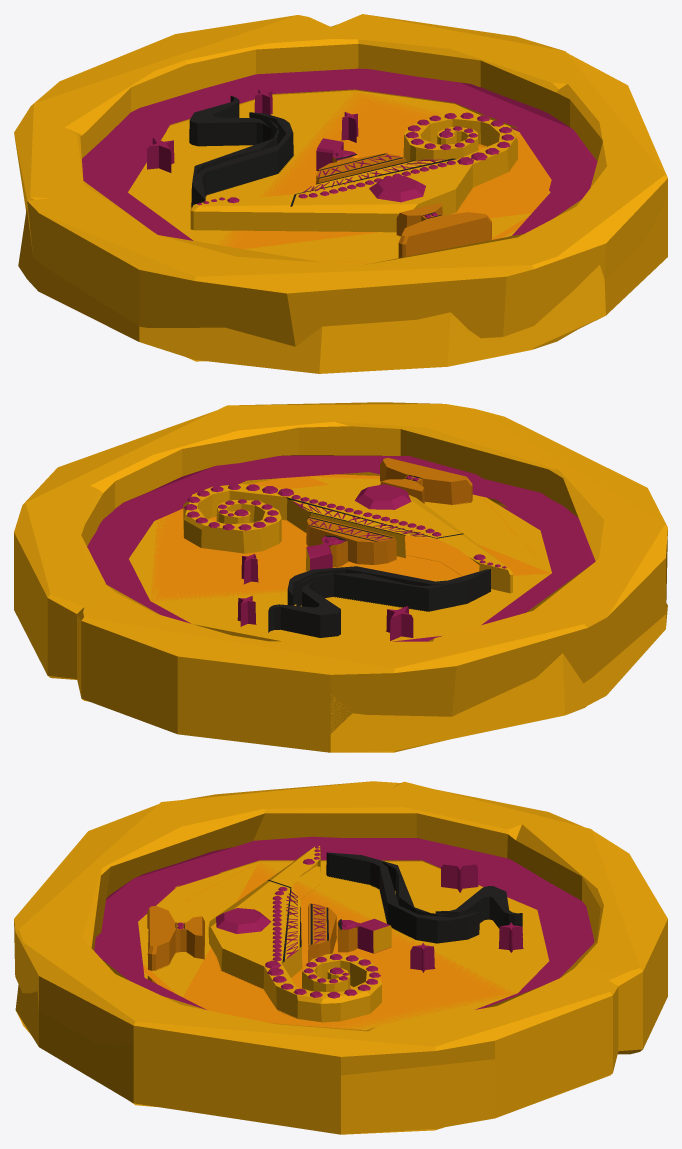
The model's file is geniecoin.glb.
3 renders of one model, top to bottom at view 1: azimuth 30°, elevation 25°; view 2: azimuth 150°, elevation 25°; view 3: azimuth 270°, elevation 25°, orthographic.
Parts seen in each view (by area): view 1: coin-opt; view 2: coin-opt; view 3: coin-opt.
Boxes of the visible parts, x1,y1,x2,y2 form: coin-opt: (14,14,667,373); coin-opt: (14,402,667,752); coin-opt: (14,781,667,1134).
Bounding box in the file's own units: 2 × 0.3063 × 2.
